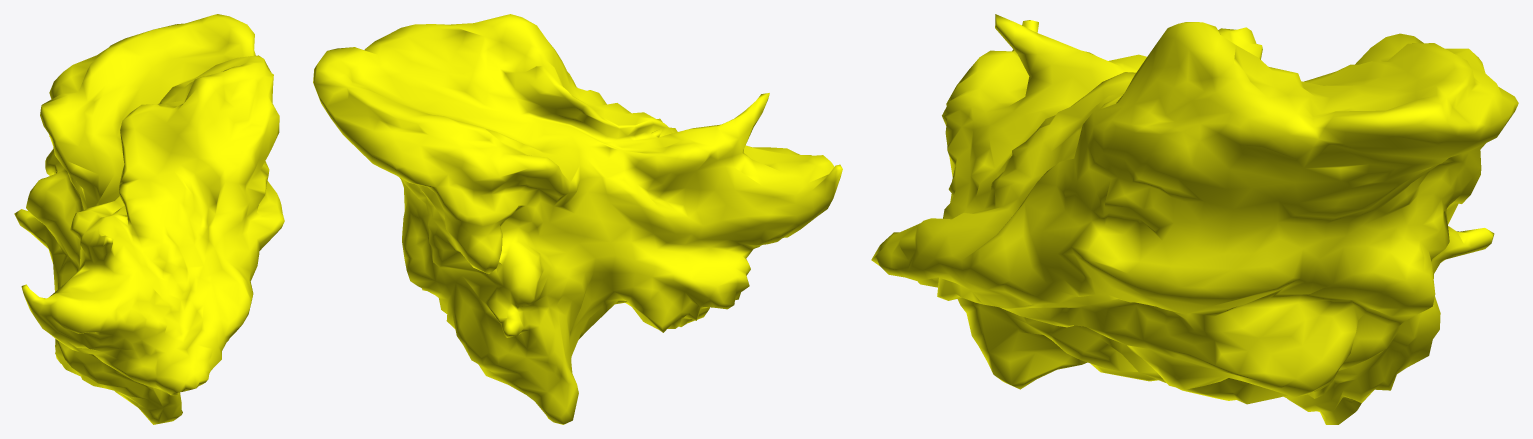
The model's file is l1-blob.glb.
3 views of the same model, side by side, from view 1: azimuth 30°, elevation 25°; view 2: azimuth 150°, elevation 25°; view 3: azimuth 270°, elevation 25° (orthographic). The views are drawn at different scales.
Parts seen in each view (by area): view 1: L1ObjBlob02_24kAnim.001; view 2: L1ObjBlob02_24kAnim.001; view 3: L1ObjBlob02_24kAnim.001.
Part boxes in pixels (x1,y1,x2,y2): L1ObjBlob02_24kAnim.001: (14,14,284,424); L1ObjBlob02_24kAnim.001: (313,14,842,424); L1ObjBlob02_24kAnim.001: (871,14,1518,424).
Bounding box in the file's own units: 4.58 × 3.89 × 4.86.
1 material, 1 textured.
